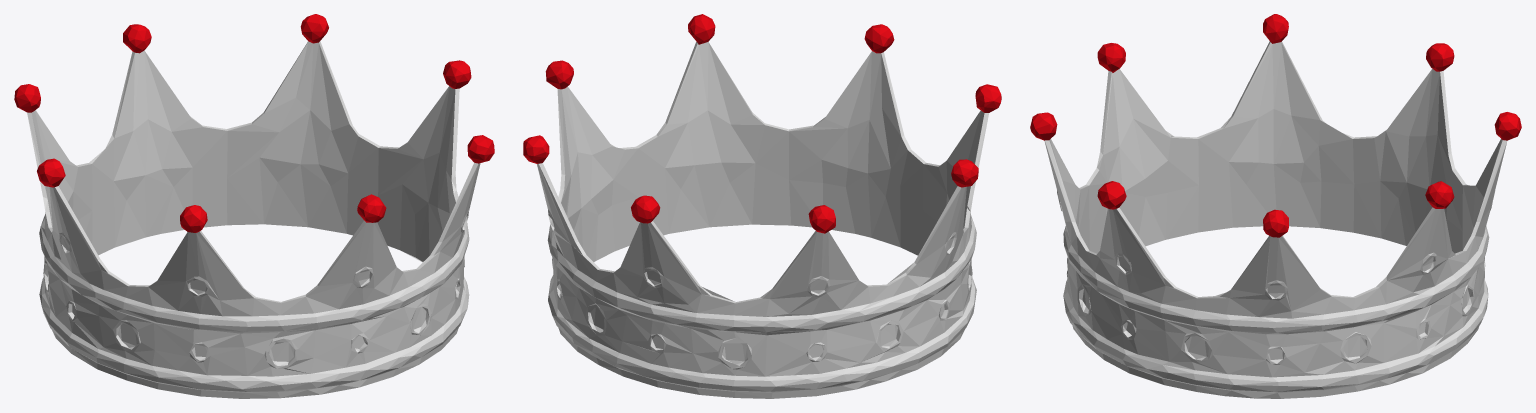
Rendered from Crown.fbx.
The picture shows the model from 3 angles, left to right: view 1: azimuth 30°, elevation 25°; view 2: azimuth 150°, elevation 25°; view 3: azimuth 270°, elevation 25°; orthographic projection.
Visible parts, largest first — view 1: Crown 4 LP; view 2: Crown 4 LP; view 3: Crown 4 LP.
Boxes of the visible parts, box(x1,y1,x2,y2) form: Crown 4 LP: box(14, 14, 494, 398); Crown 4 LP: box(523, 14, 1001, 398); Crown 4 LP: box(1030, 14, 1521, 398).
Bounding box in the file's own units: 687 × 306 × 688.
